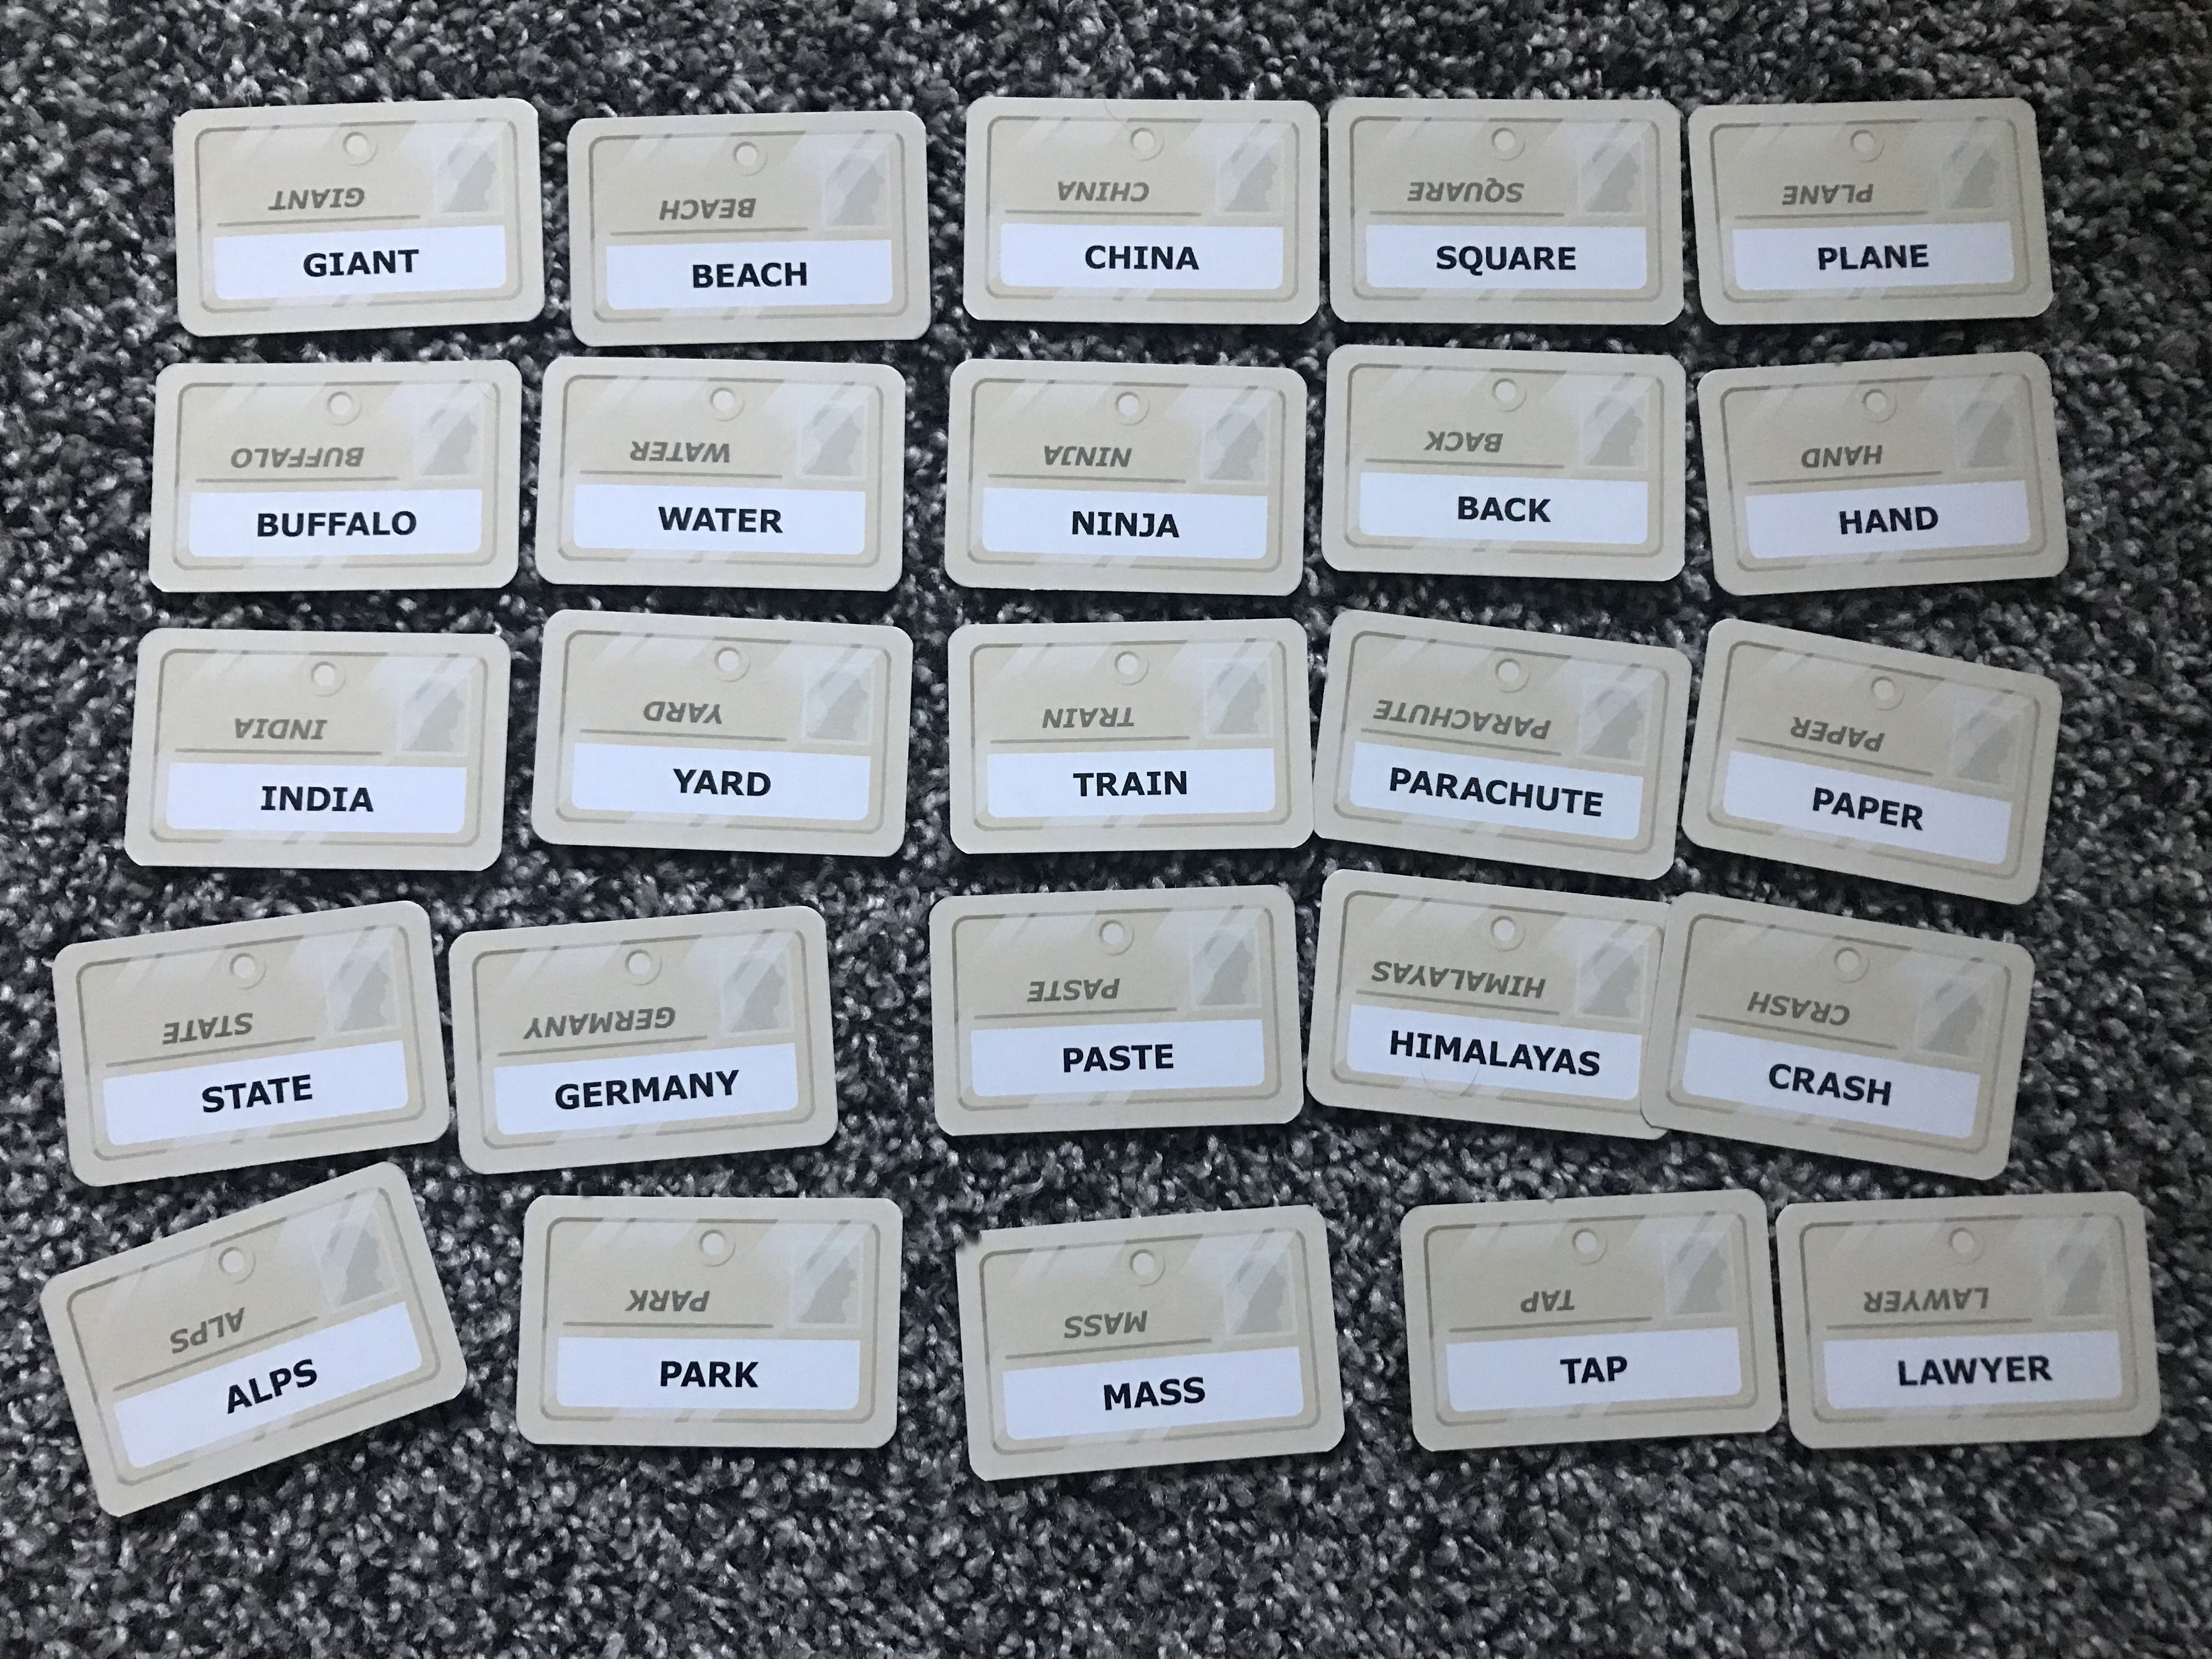A: (1507, 1035, 1536, 1079), (1550, 1044, 1580, 1084), (1918, 1351, 1944, 1396), (1120, 765, 1148, 807), (733, 258, 763, 296), (1864, 504, 1893, 542), (1829, 788, 1858, 826), (343, 246, 373, 282), (1407, 765, 1433, 805), (1857, 240, 1886, 275), (1153, 509, 1183, 544), (1475, 491, 1503, 528), (693, 765, 719, 803), (1460, 770, 1486, 809), (1132, 1375, 1158, 1413), (1580, 1351, 1606, 1389), (1080, 1042, 1109, 1075), (247, 1077, 272, 1117), (343, 507, 369, 544), (660, 1072, 690, 1103), (681, 1356, 709, 1389), (1507, 240, 1533, 275), (1174, 240, 1202, 272), (225, 1380, 251, 1413), (1463, 1033, 1486, 1070), (348, 781, 374, 812), (693, 504, 718, 537), (1817, 1065, 1839, 1100)
